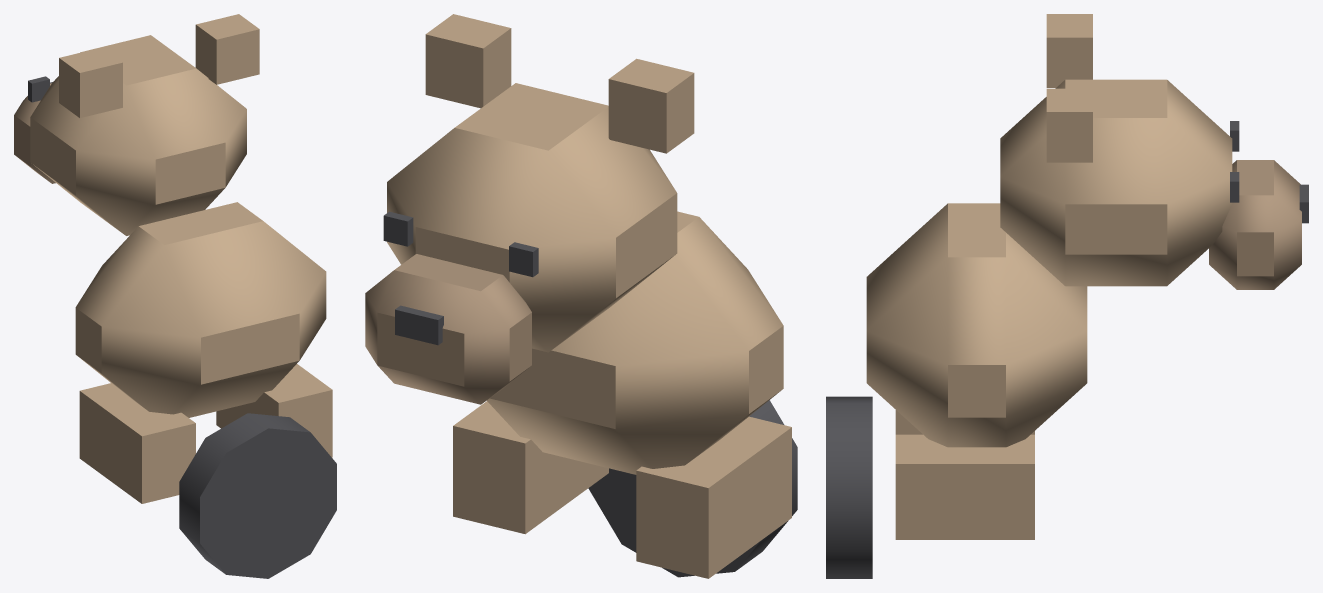
File: acc_mascot_capy.glb
3 renders of one model, left to right at view 1: azimuth 30°, elevation 25°; view 2: azimuth 150°, elevation 25°; view 3: azimuth 270°, elevation 25°, orthographic. The views are drawn at different scales.
Visible parts, largest first — view 1: acc_mascot_capy_mesh; view 2: acc_mascot_capy_mesh; view 3: acc_mascot_capy_mesh.
Part boxes in pixels (x1,y1,x2,y2): acc_mascot_capy_mesh: (14,14,336,578); acc_mascot_capy_mesh: (365,14,797,578); acc_mascot_capy_mesh: (826,14,1308,578).
Bounding box in the file's own units: 0.125 × 0.242 × 0.208.
